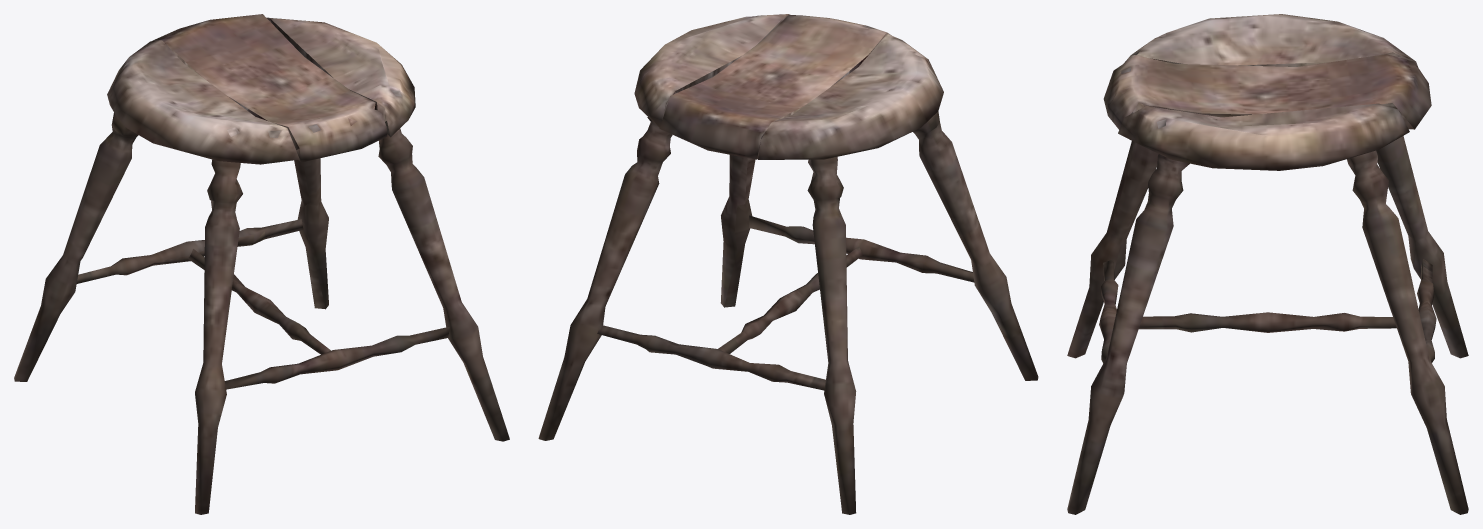
The model's file is wooden_stool_01.glb.
3 renders of one model, left to right at view 1: azimuth 30°, elevation 25°; view 2: azimuth 150°, elevation 25°; view 3: azimuth 270°, elevation 25°, orthographic. The views are drawn at different scales.
Visible parts, largest first — view 1: wooden_stool_01; view 2: wooden_stool_01; view 3: wooden_stool_01.
Part boxes in pixels (x1,y1,x2,y2): wooden_stool_01: [14, 14, 509, 514]; wooden_stool_01: [538, 14, 1038, 514]; wooden_stool_01: [1067, 14, 1468, 514].
Size of the model in its own units: 0.4262 by 0.4379 by 0.4414.
1 material, 1 textured.
